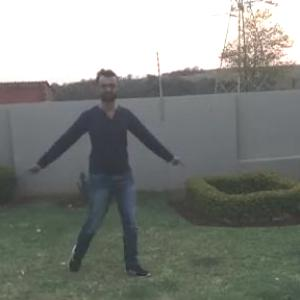land: (50, 79, 160, 241)
